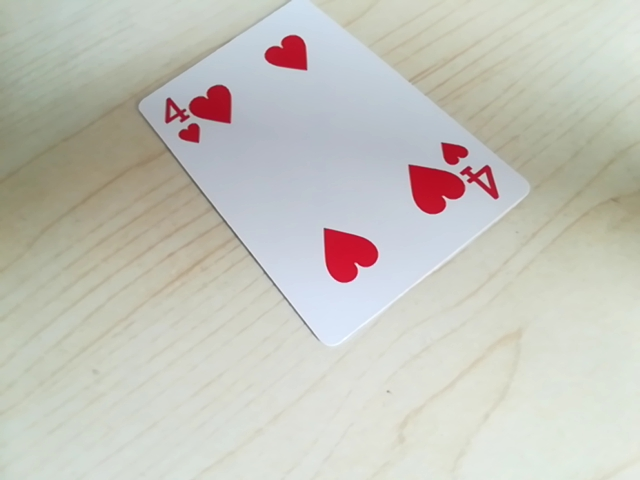hx 4: (433, 138, 505, 196), (151, 86, 218, 147)
